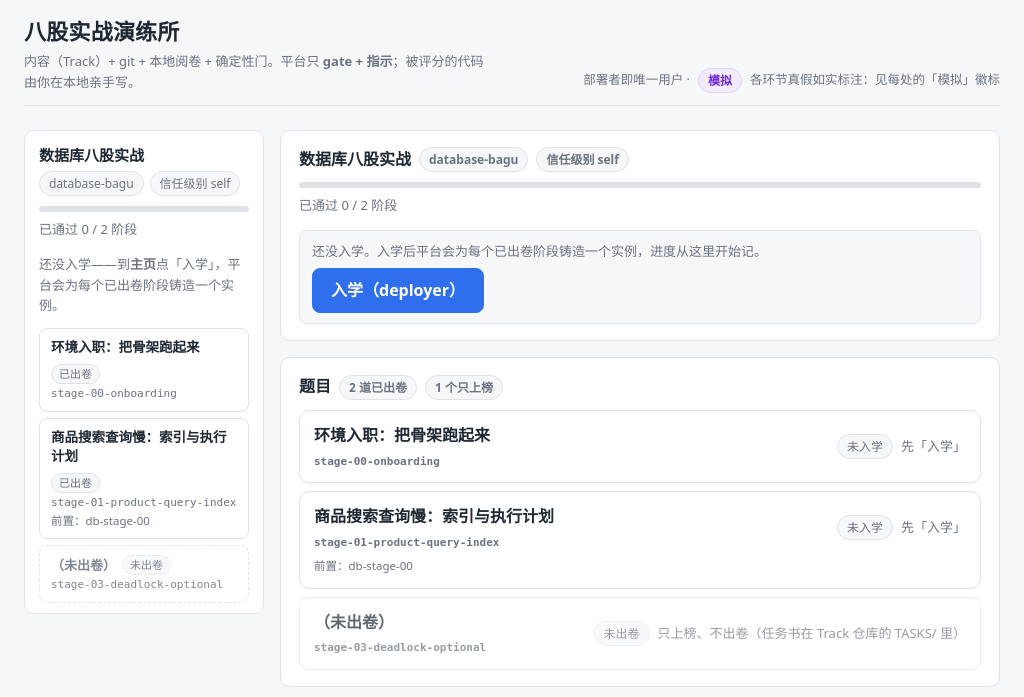
Scenario: App 装配：跑通整条自习闭环 › 界面按「中栏读、右栏点」分工：动作全在右栏，中栏是一篇文档
Click the button with test id "enroll" at [398, 291], box x1=312 y1=268 x2=484 y2=313
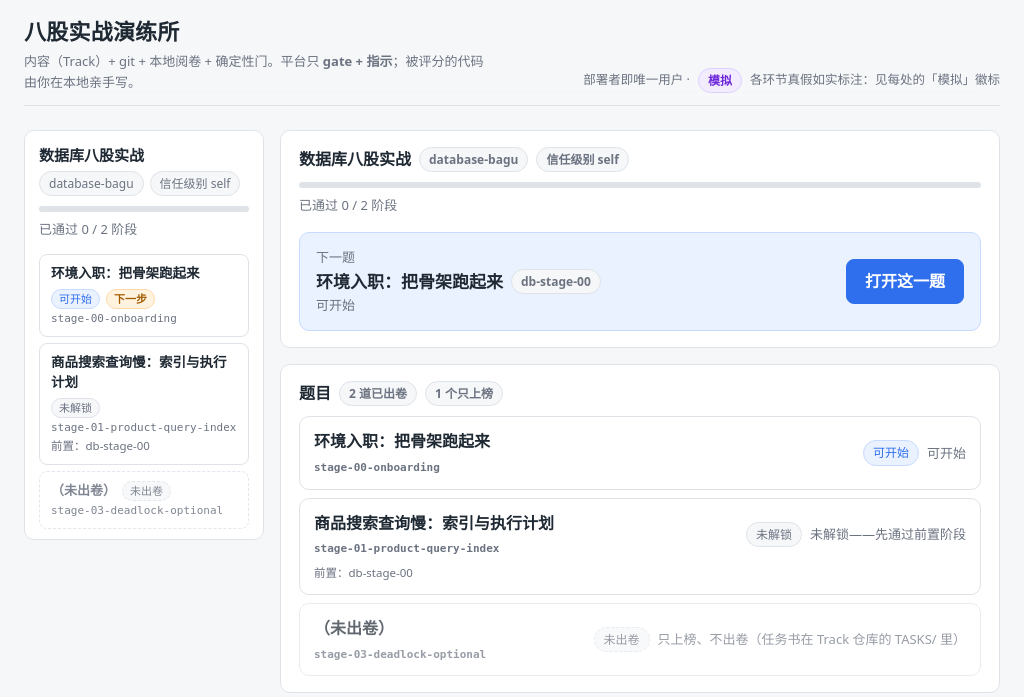
Click the button with test id "stage-stage-00-onboarding" at [144, 296], box x1=39 y1=254 x2=249 y2=337
(page scrolled)
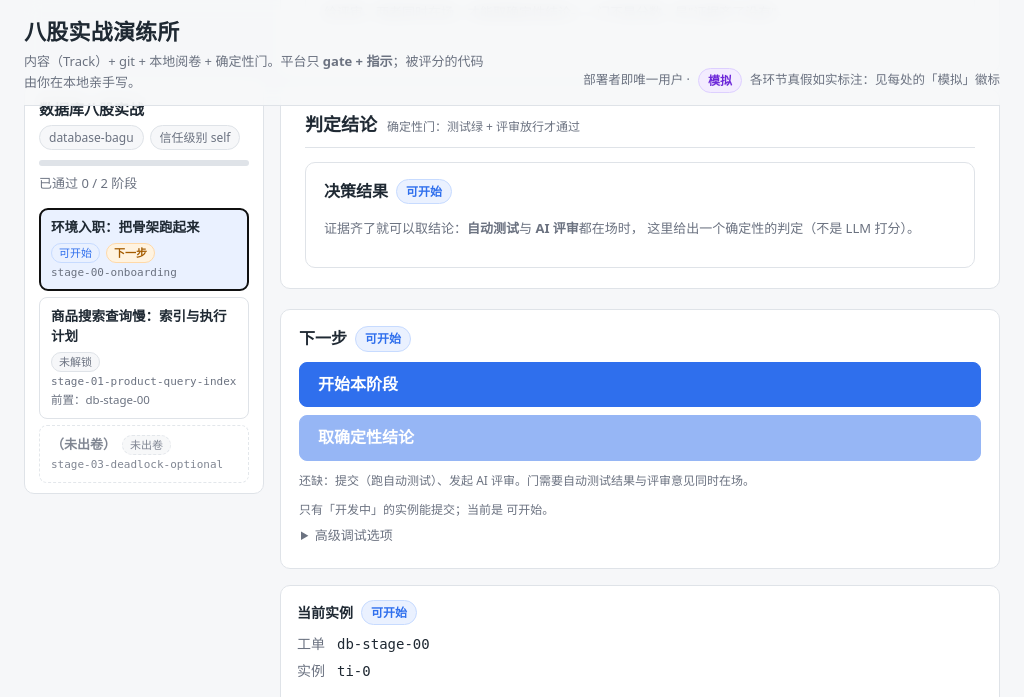
Click the button "开始本阶段" at [358, 384], box x1=299 y1=362 x2=981 y2=408
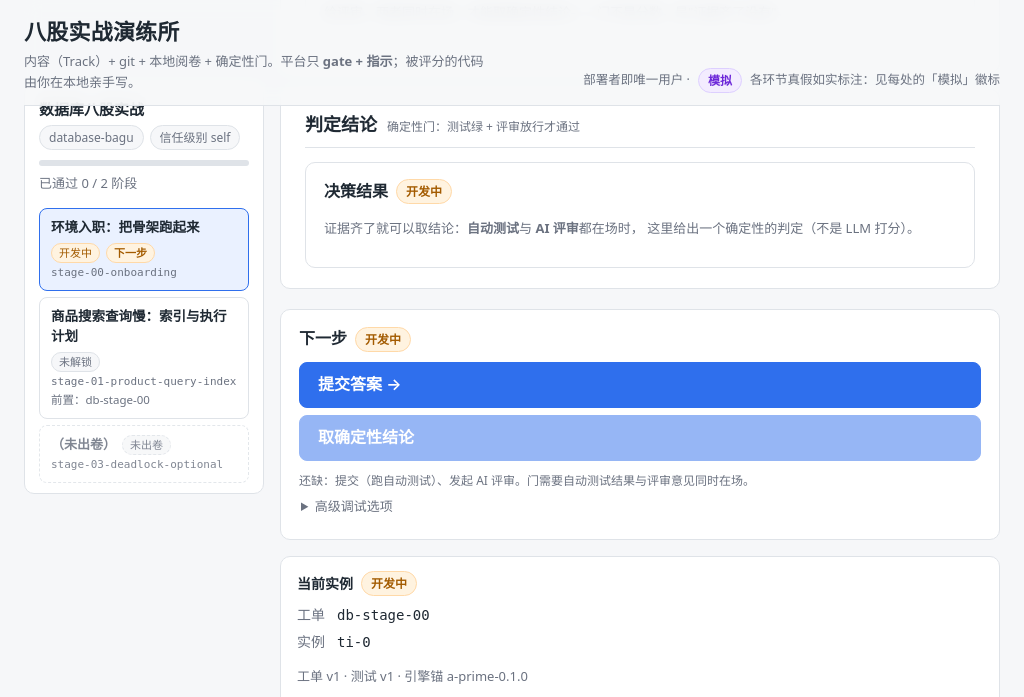
expect the button with test id "submit-answer" is shown: met, box x1=299 y1=362 x2=981 y2=408
